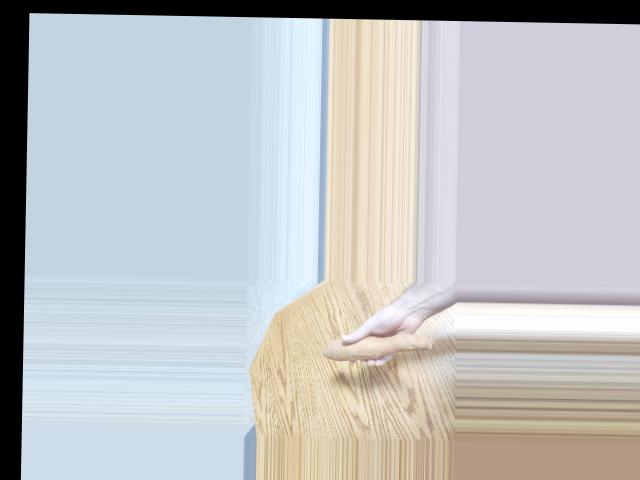sweet_potato: (320, 330, 437, 366)
